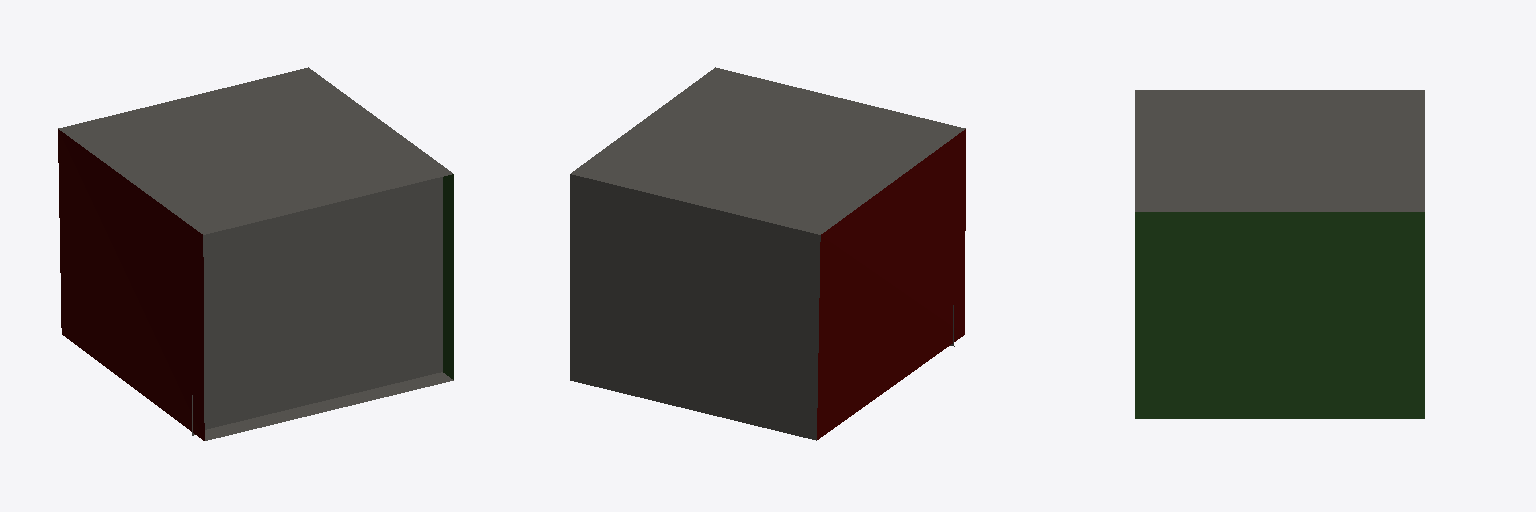
Rendered from cornellclosed.obj.
3 renders of one model, left to right at view 1: azimuth 30°, elevation 25°; view 2: azimuth 150°, elevation 25°; view 3: azimuth 270°, elevation 25°, orthographic.
Visible parts, largest first — view 1: backWall.001, ceiling, leftWall, floor, rightWall; view 2: backWall, ceiling, leftWall; view 3: rightWall, ceiling.
Boxes of the visible parts, box(x1,y1,x2,y2) form: backWall.001: box(192, 177, 442, 435); ceiling: box(58, 67, 452, 234); leftWall: box(58, 129, 204, 440); floor: box(205, 372, 453, 440); rightWall: box(443, 174, 453, 379); backWall: box(570, 174, 820, 440); ceiling: box(571, 67, 965, 234); leftWall: box(817, 129, 965, 439); rightWall: box(1135, 212, 1424, 418); ceiling: box(1135, 90, 1424, 211).
Size of the model in its own units: 2.53 by 2.02 by 2.54.